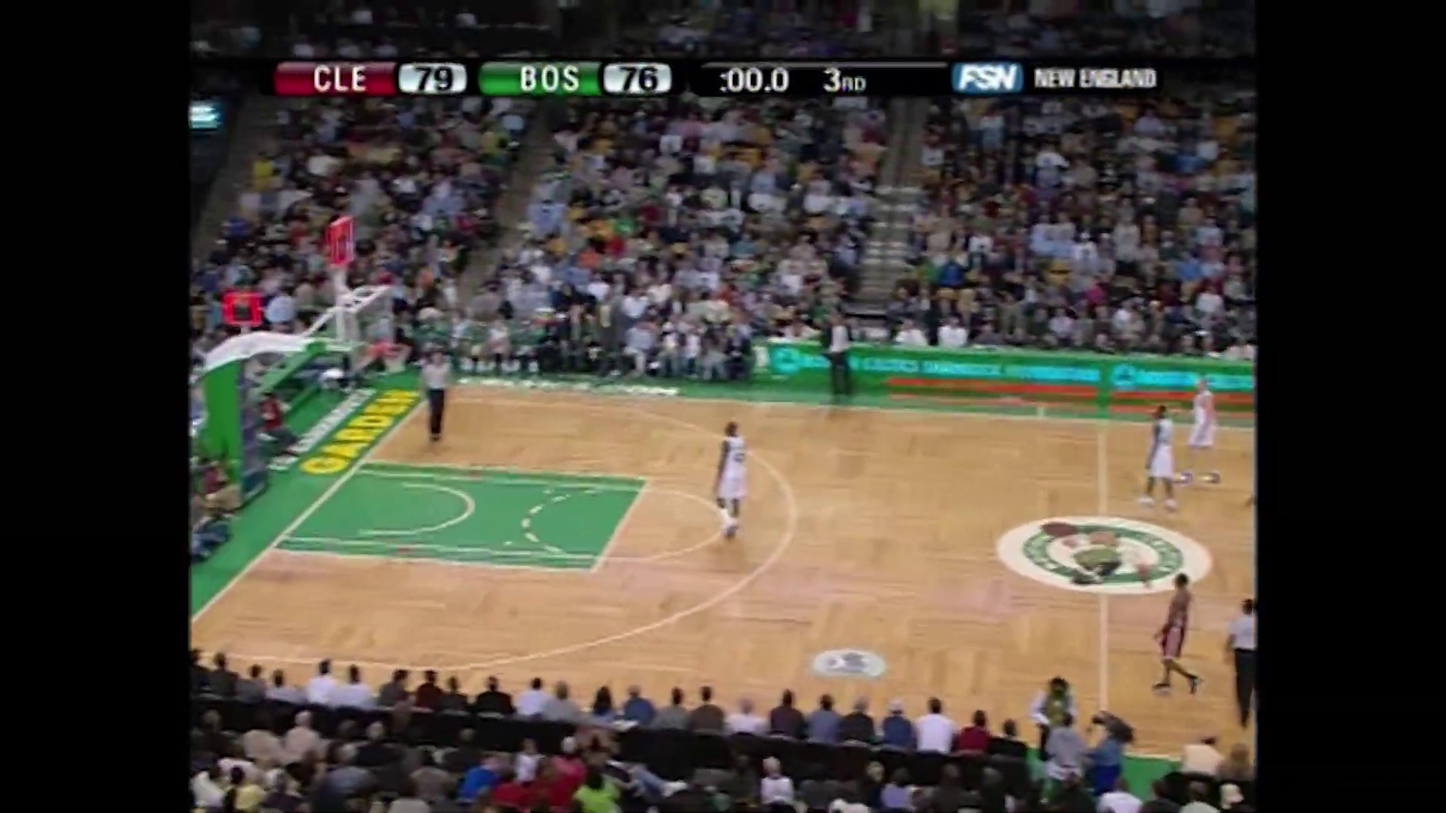basket_hoop: (320, 269, 438, 383)
